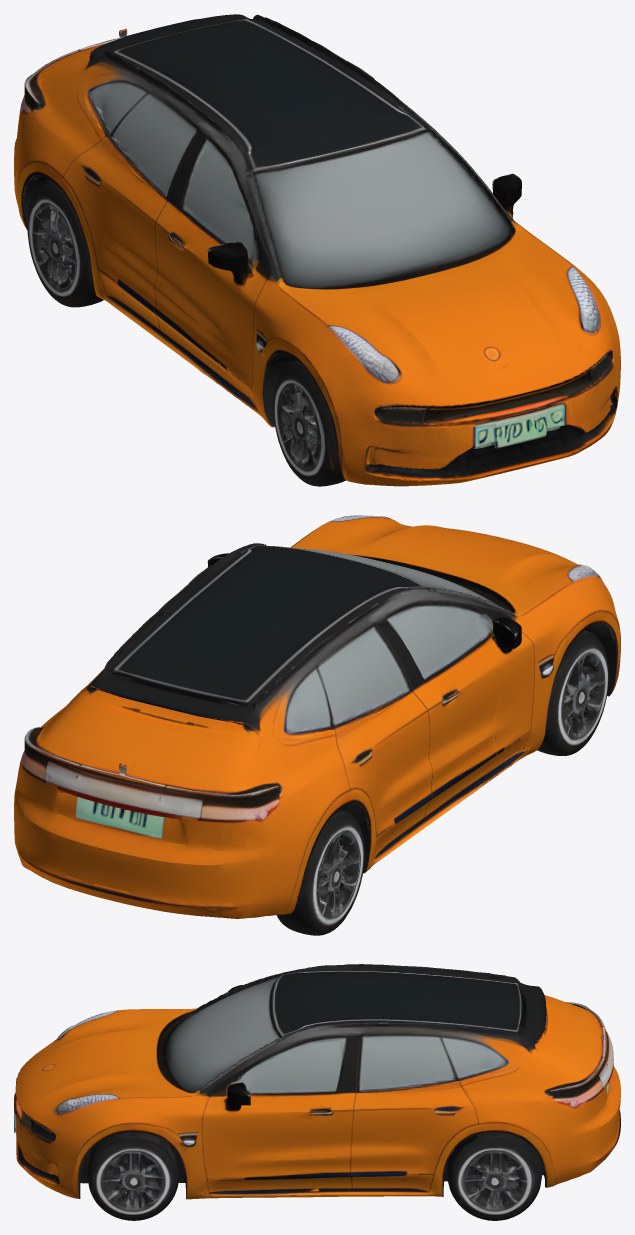
File: zeekrs.glb
3 renders of one model, top to bottom at view 1: azimuth 30°, elevation 25°; view 2: azimuth 150°, elevation 25°; view 3: azimuth 270°, elevation 25°, orthographic. The views are drawn at different scales.
Visible parts, largest first — view 1: Object_2; view 2: Object_2; view 3: Object_2.
Boxes of the visible parts, x1,y1,x2,y2 form: Object_2: [14, 14, 620, 486]; Object_2: [14, 515, 620, 935]; Object_2: [14, 964, 620, 1220].
Bounding box in the file's own units: 0.8209 × 0.6218 × 1.9.
Materials: 1 (1 with a texture image).
